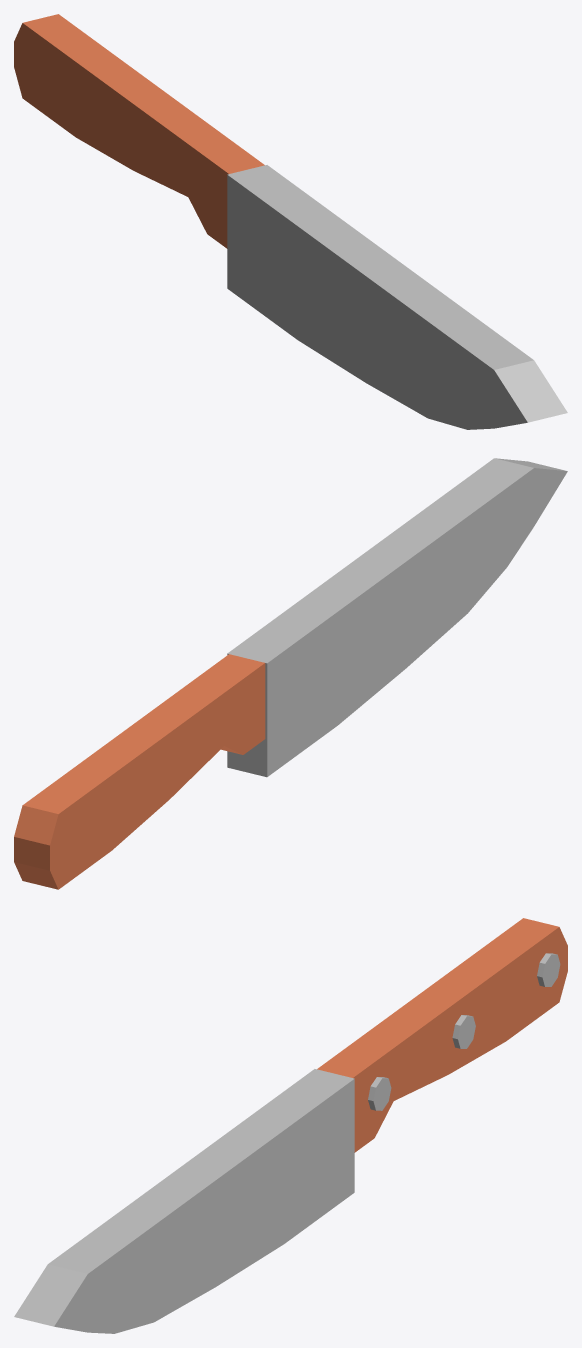
File: Knife.fbx
3 views of the same model, one above another, from view 1: azimuth 30°, elevation 25°; view 2: azimuth 150°, elevation 25°; view 3: azimuth 330°, elevation 25° (orthographic).
Parts seen in each view (by area): view 1: knife; view 2: knife; view 3: knife.
Part boxes in pixels (left/top/right/bottom): knife: left=14, top=14, right=567, bottom=429; knife: left=14, top=458, right=567, bottom=889; knife: left=14, top=918, right=567, bottom=1333.
Bounding box in the file's own units: 2.21 × 5.29 × 43.42.
